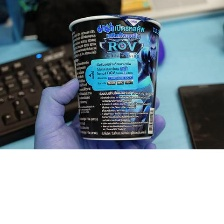paper_cup: (64, 7, 165, 145)
